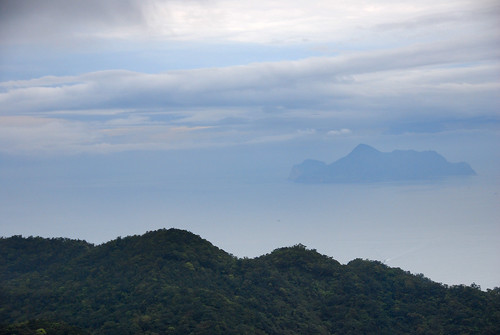turtleIslandLeft: (292, 142, 479, 178)
